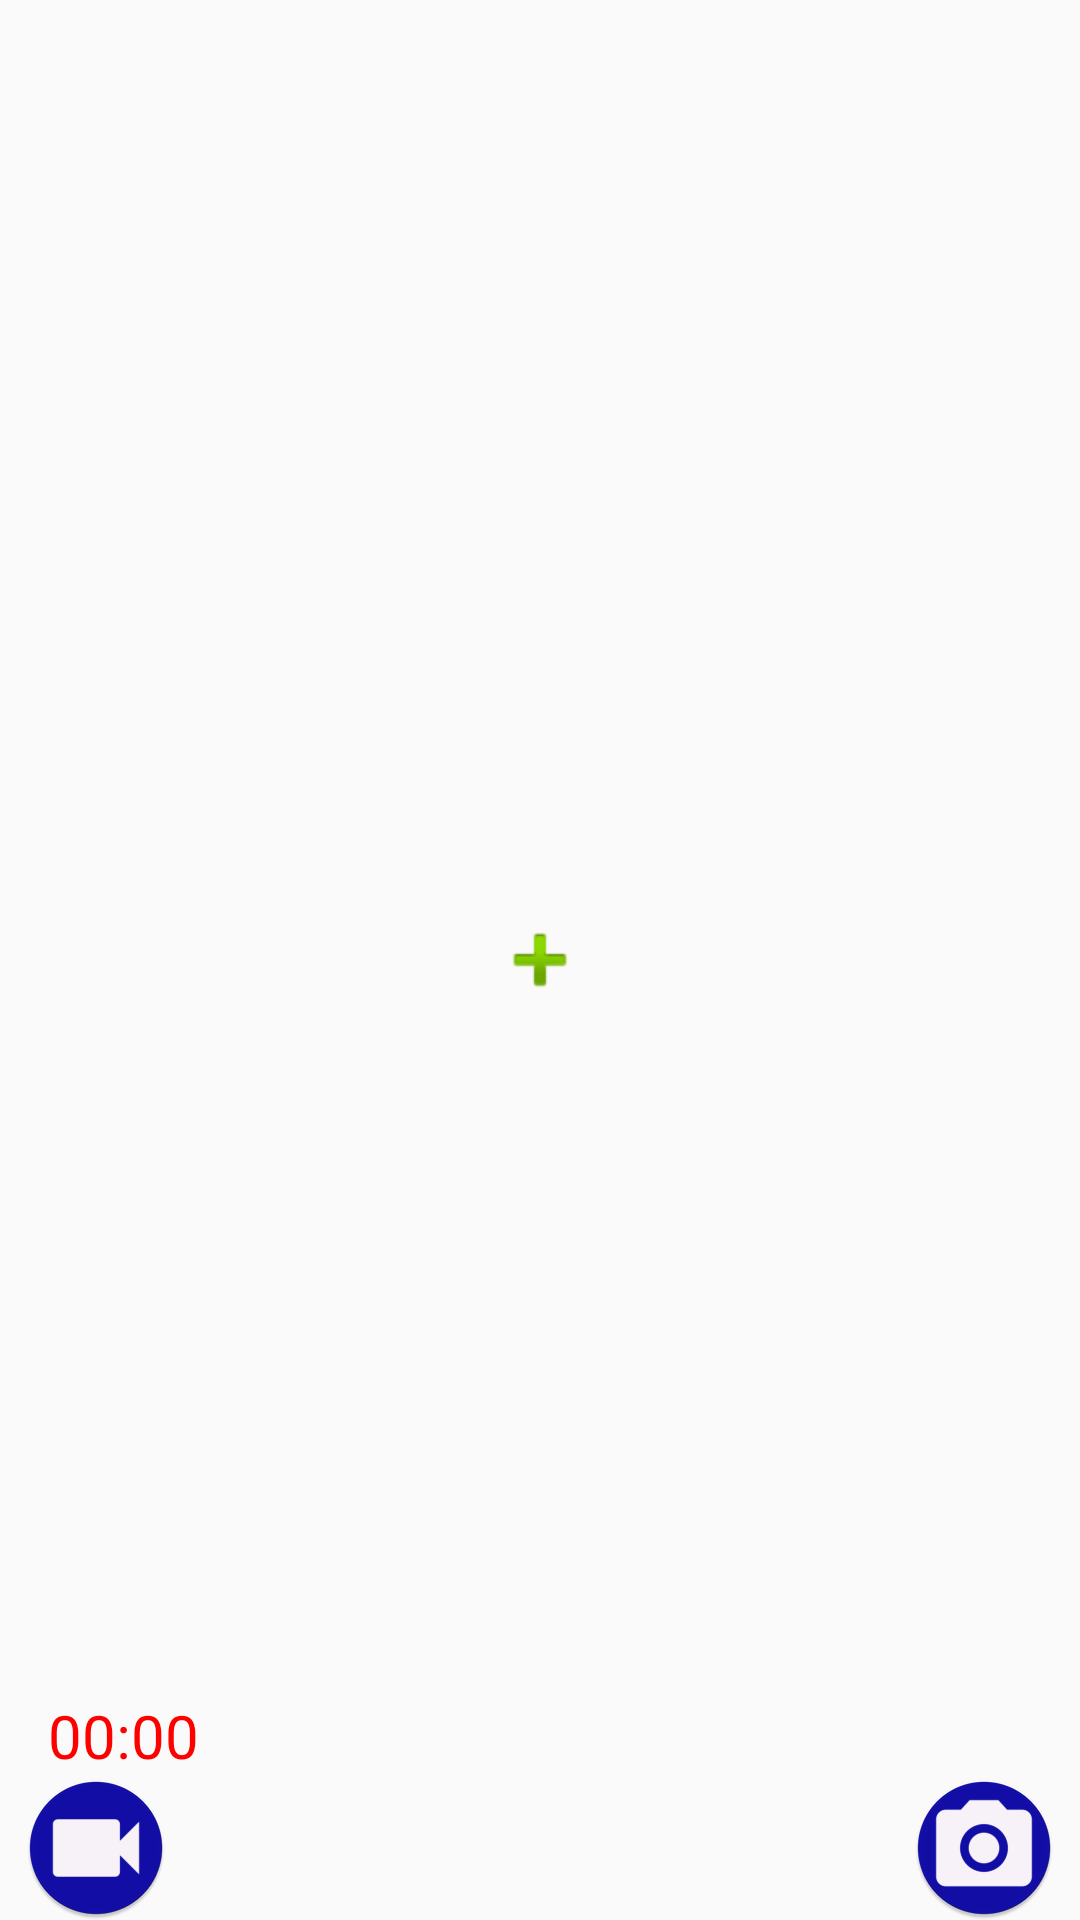

Screen size 1080x1920. Icon name, then its box in pixels as box(x1, y1, x2, y2):
add: box(513, 933, 567, 987)
Records Videos: box(29, 1781, 163, 1917)
Takes Picture: box(917, 1781, 1051, 1917)
